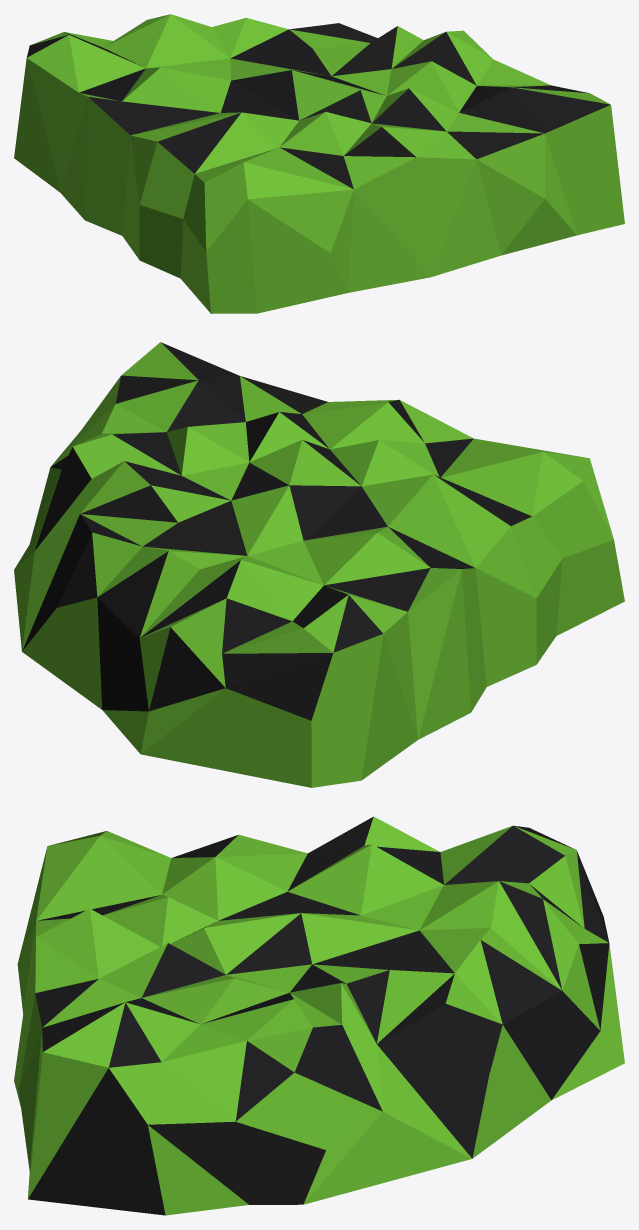
Rendered from grass_field_quarter.fbx.
The picture shows the model from 3 angles, top to bottom: view 1: azimuth 30°, elevation 25°; view 2: azimuth 150°, elevation 25°; view 3: azimuth 270°, elevation 25°; orthographic projection. The views are drawn at different scales.
Parts seen in each view (by area): view 1: grass_quarter; view 2: grass_quarter; view 3: grass_quarter.
Part boxes in pixels (box(x1,y1,x2,y2)): grass_quarter: box(14, 14, 624, 313); grass_quarter: box(14, 342, 624, 787); grass_quarter: box(14, 816, 624, 1215).
Size of the model in its own units: 105 by 31.11 by 106.
